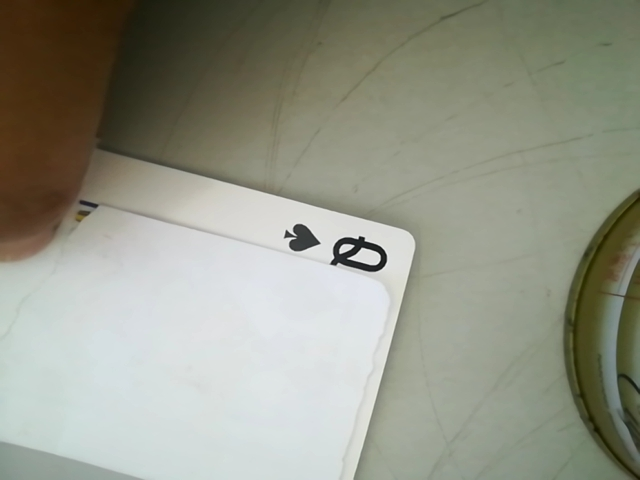ht q: (274, 218, 410, 280)
